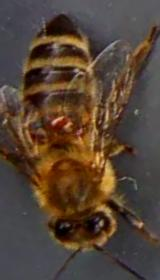varroa_mite: (46, 111, 81, 140)
